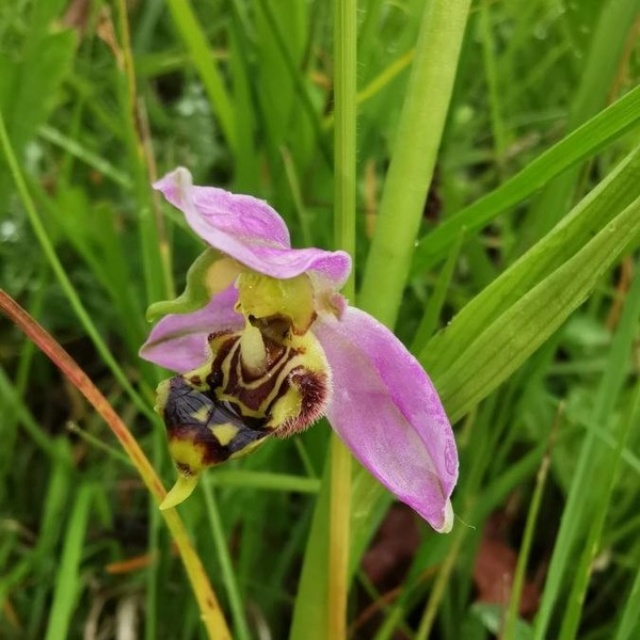obstacle: (103, 107, 518, 629)
